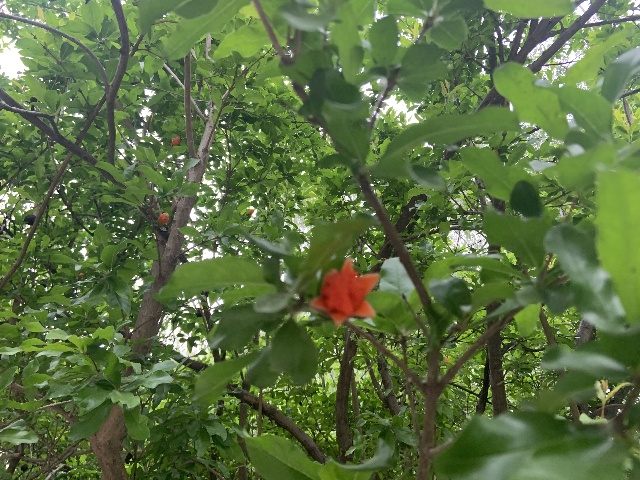bud: (157, 212, 168, 225), (171, 137, 180, 146)
flower: (309, 256, 379, 327)
